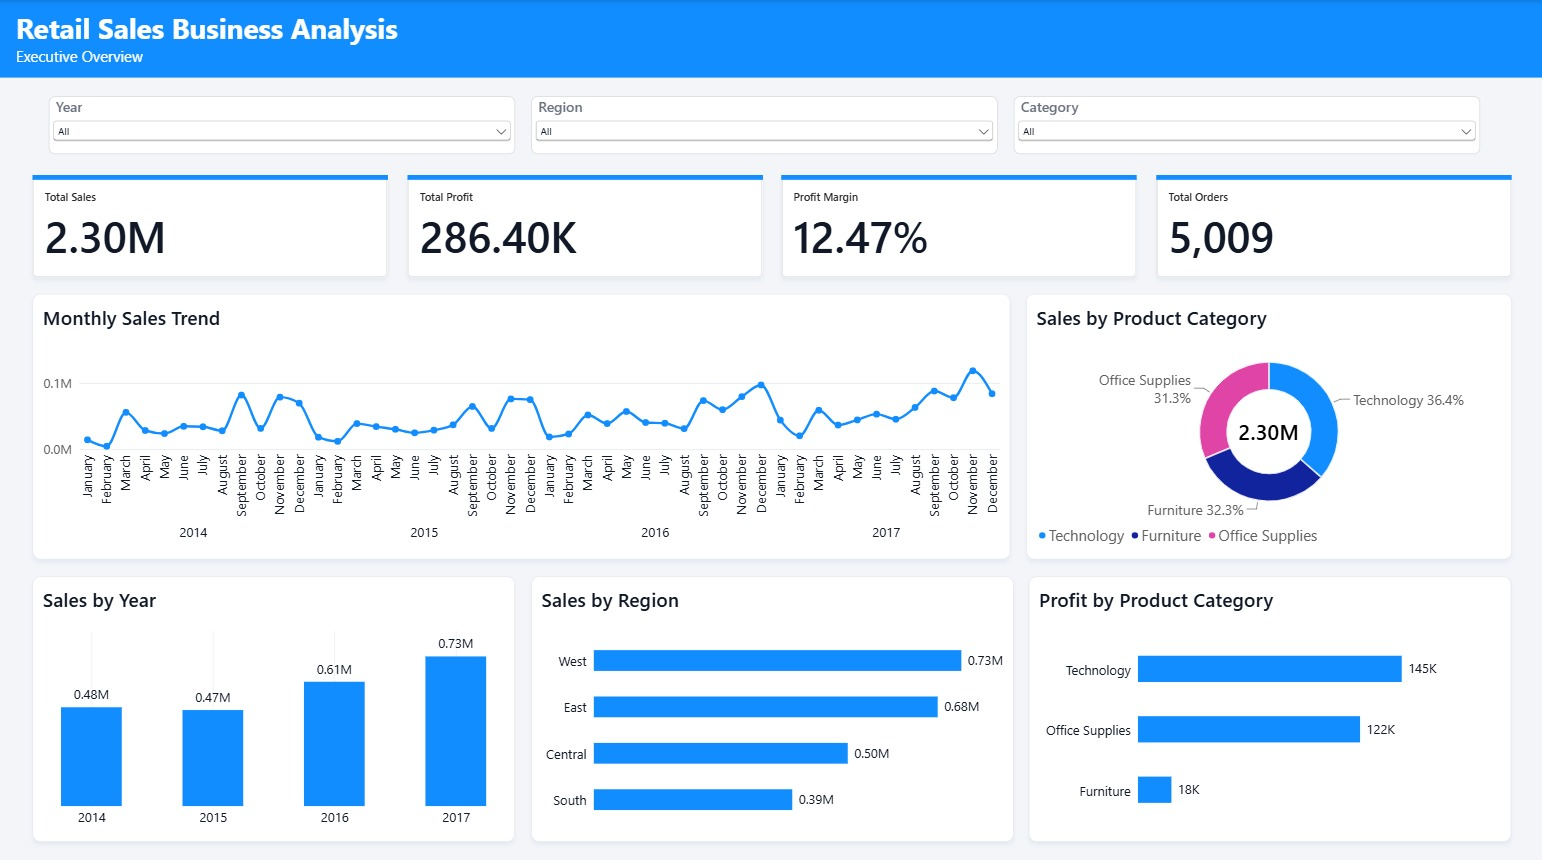

What the dashboard file says about the page in this screenshot:
{"tool":"powerbi","page":{"name":"Executive Overview","canvas":[1920,1080],"ordinal":0},"visuals":[{"type":"shape","box":[0,0,1920,92],"z":0},{"type":"shape","box":[0,92,1920,5],"z":1000},{"type":"textbox","box":[0,0,1920,91.7],"z":2000},{"type":"shape","box":[40,112,1840,88],"z":4000},{"type":"slicer","fields":{"Values":["superstore superstore_sales.order_date.Variation.Date Hierarchy.Year"]},"box":[60,120,580,72],"z":5000},{"type":"slicer","fields":{"Values":["superstore superstore_sales.region"]},"box":[660,120,580,72],"z":6000},{"type":"slicer","fields":{"Values":["superstore superstore_sales.category"]},"box":[1260,120,580,72],"z":7000},{"type":"cardVisual","fields":{"Data":["superstore superstore_sales.Total Sales"]},"box":[40,218,442,128],"z":8000},{"type":"shape","box":[40,218,442,6],"z":9000},{"type":"cardVisual","fields":{"Data":["superstore superstore_sales.Total Profit"]},"box":[506,218,442,128],"z":10000},{"type":"shape","box":[506,218,442,6],"z":11000},{"type":"cardVisual","fields":{"Data":["superstore superstore_sales.Profit Margin"]},"box":[972,218,442,128],"z":12000},{"type":"shape","box":[972,218,442,6],"z":13000},{"type":"cardVisual","fields":{"Data":["superstore superstore_sales.Total Orders"]},"box":[1438,218,442,128],"z":14000},{"type":"shape","box":[1438,218,442,6],"z":15000},{"type":"lineChart","title":"Monthly Sales Trend","fields":{"Category":["superstore superstore_sales.order_date.Variation.Date Hierarchy.Year","superstore superstore_sales.order_date.Variation.Date Hierarchy.Month"],"Y":["superstore superstore_sales.Total Sales"]},"box":[40,366,1216,330],"z":16000},{"type":"donutChart","title":"Sales by Product Category","fields":{"Category":["superstore superstore_sales.category"],"Y":["superstore superstore_sales.Total Sales"]},"box":[1276,366,604,330],"z":17000},{"type":"clusteredColumnChart","title":"Sales by Year","fields":{"Category":["superstore superstore_sales.order_date.Variation.Date Hierarchy.Year"],"Y":["superstore superstore_sales.Total Sales"]},"box":[40,716,600,330],"z":18000},{"type":"clusteredBarChart","title":"Sales by Region","fields":{"Category":["superstore superstore_sales.region"],"Y":["superstore superstore_sales.Total Sales"]},"box":[660,716,600,330],"z":19000},{"type":"clusteredBarChart","title":"Profit by Product Category","fields":{"Category":["superstore superstore_sales.category"],"Y":["superstore superstore_sales.Total Profit"]},"box":[1280,716,600,330],"z":20000}]}

Visuals, with their boxes in screenshot pixels (x1, y1, x2, y2), scaled from the page's 1920x1080 canvas onto the 1542x860 screenshot:
shape: 0,0,1541,73
shape: 0,73,1541,77
textbox: 0,0,1541,73
shape: 32,89,1510,159
slicer - superstore superstore_sales.order_date.Variation.Date Hierarchy.Year: 48,96,514,153
slicer - superstore superstore_sales.region: 530,96,996,153
slicer - superstore superstore_sales.category: 1012,96,1478,153
cardVisual - superstore superstore_sales.Total Sales: 32,174,387,276
shape: 32,174,387,178
cardVisual - superstore superstore_sales.Total Profit: 406,174,761,276
shape: 406,174,761,178
cardVisual - superstore superstore_sales.Profit Margin: 781,174,1136,276
shape: 781,174,1136,178
cardVisual - superstore superstore_sales.Total Orders: 1155,174,1510,276
shape: 1155,174,1510,178
"Monthly Sales Trend" lineChart: 32,291,1009,554
"Sales by Product Category" donutChart: 1025,291,1510,554
"Sales by Year" clusteredColumnChart: 32,570,514,833
"Sales by Region" clusteredBarChart: 530,570,1012,833
"Profit by Product Category" clusteredBarChart: 1028,570,1510,833
